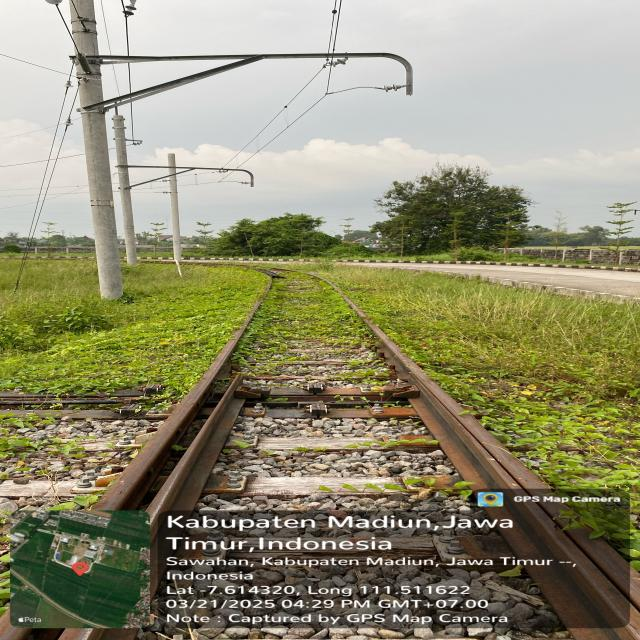rail-detection: (341, 295, 636, 640), (99, 317, 253, 510), (149, 373, 267, 590)
